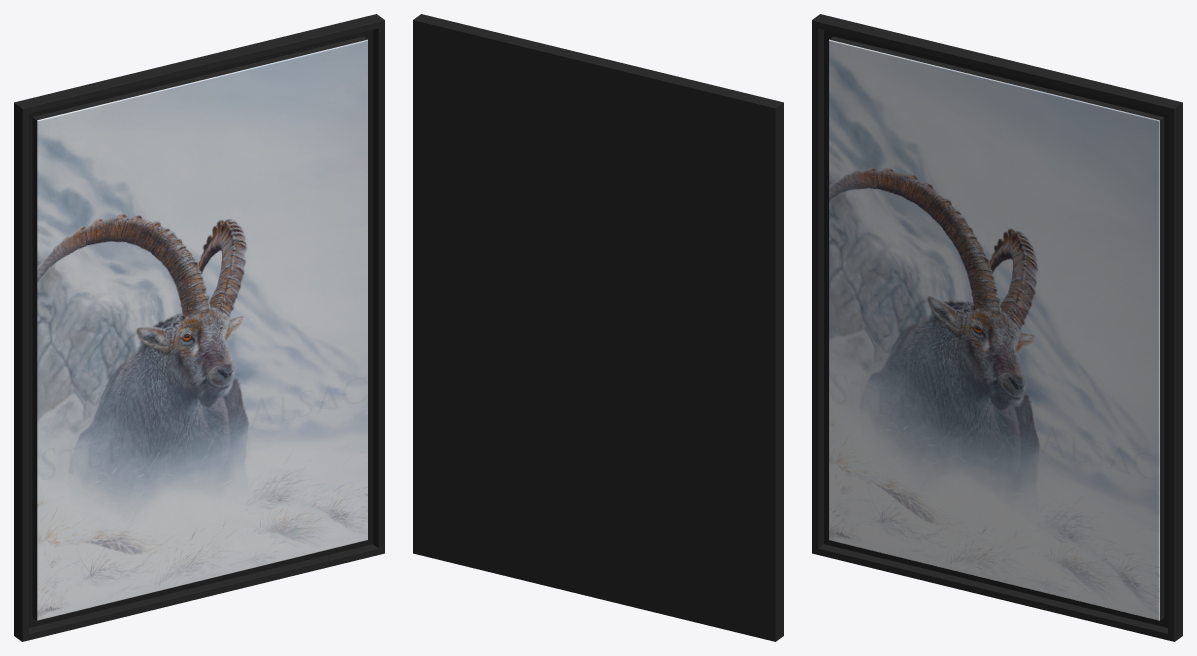
The model's file is tableau-peinture-ibex-grand-3f671dfe.glb.
3 renders of one model, left to right at view 1: azimuth 30°, elevation 25°; view 2: azimuth 150°, elevation 25°; view 3: azimuth 330°, elevation 25°, orthographic.
Visible parts, largest first — view 1: Painting; view 2: Painting; view 3: Painting.
Boxes of the visible parts, x1,y1,x2,y2 form: Painting: (14, 14, 384, 641); Painting: (413, 14, 783, 641); Painting: (812, 14, 1182, 641).
Bounding box in the file's own units: 0.986 × 1.39 × 0.04.
Materials: 4 (2 with a texture image).
